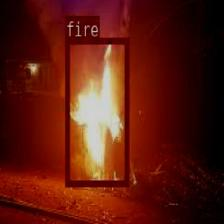fire: (64, 37, 128, 185)
